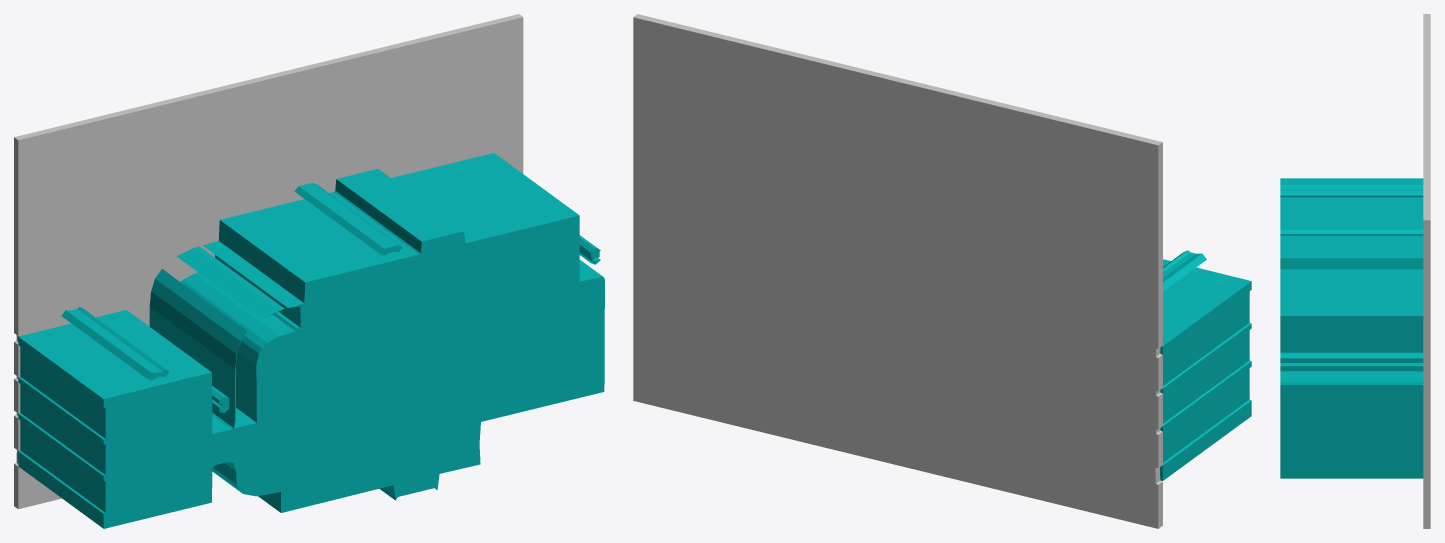
3 views of the same model, side by side, from view 1: azimuth 30°, elevation 25°; view 2: azimuth 150°, elevation 25°; view 3: azimuth 270°, elevation 25° (orthographic). The views are drawn at different scales.
Visible parts, largest first — view 1: world; view 2: world; view 3: world.
Part boxes in pixels (box(x1,y1,x2,y2)): world: box(14, 14, 604, 528); world: box(633, 14, 1251, 528); world: box(1280, 14, 1430, 528).
Size of the model in its own units: 10.23 by 7.14 by 3.15.
